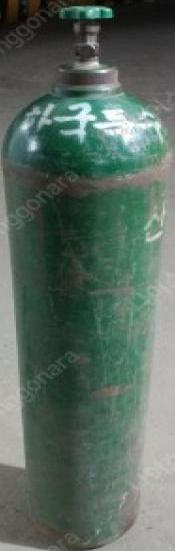cylinder: (0, 1, 175, 551)
